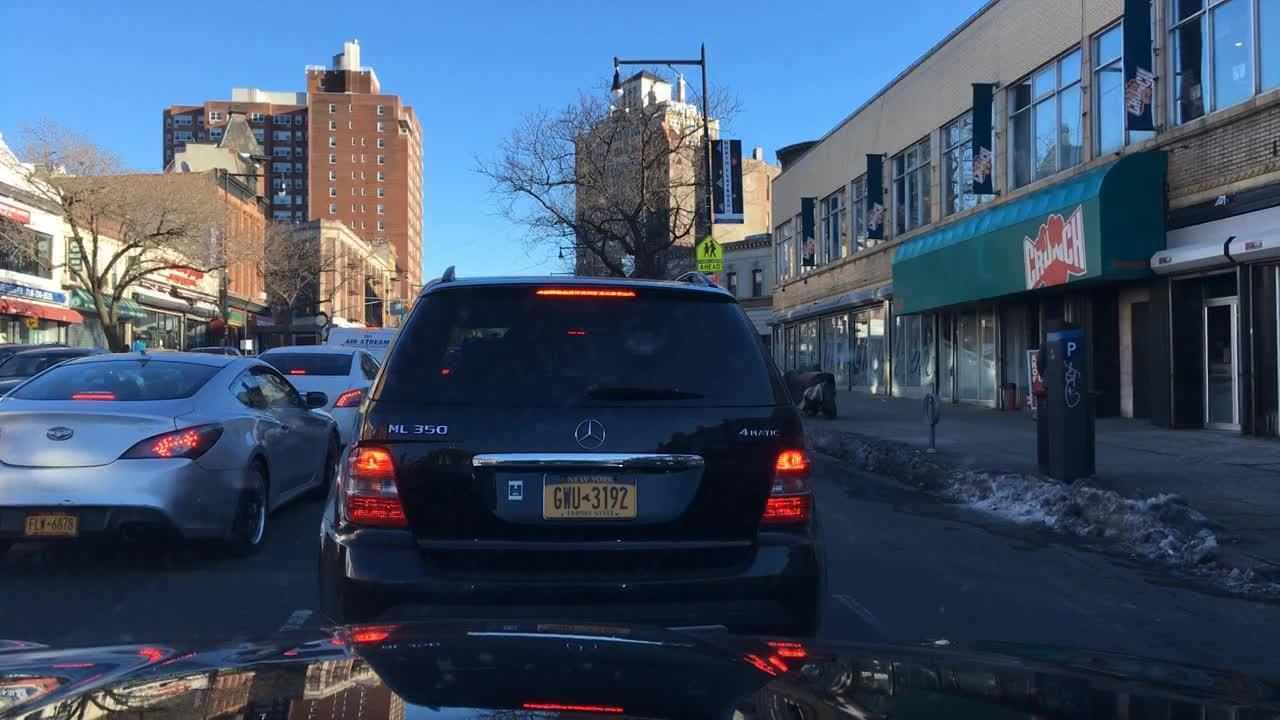Mercedes: (551, 407, 626, 459)
